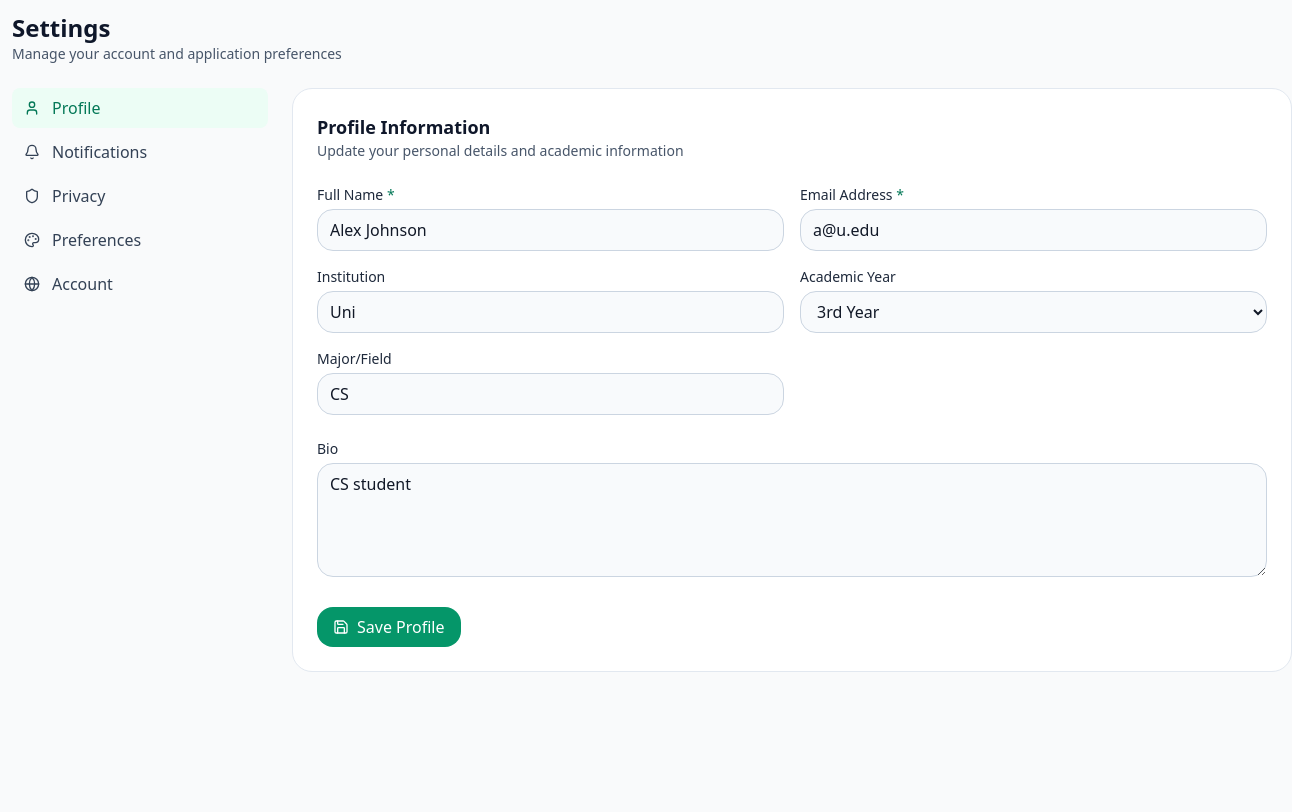
it: Settings (navigation between tabs) › switches tabs via left nav
Expected: the text "Manage your account and application preferences" is shown, [12, 44, 342, 63]
Click the button "Notifications": [140, 152] box [12, 132, 268, 172]
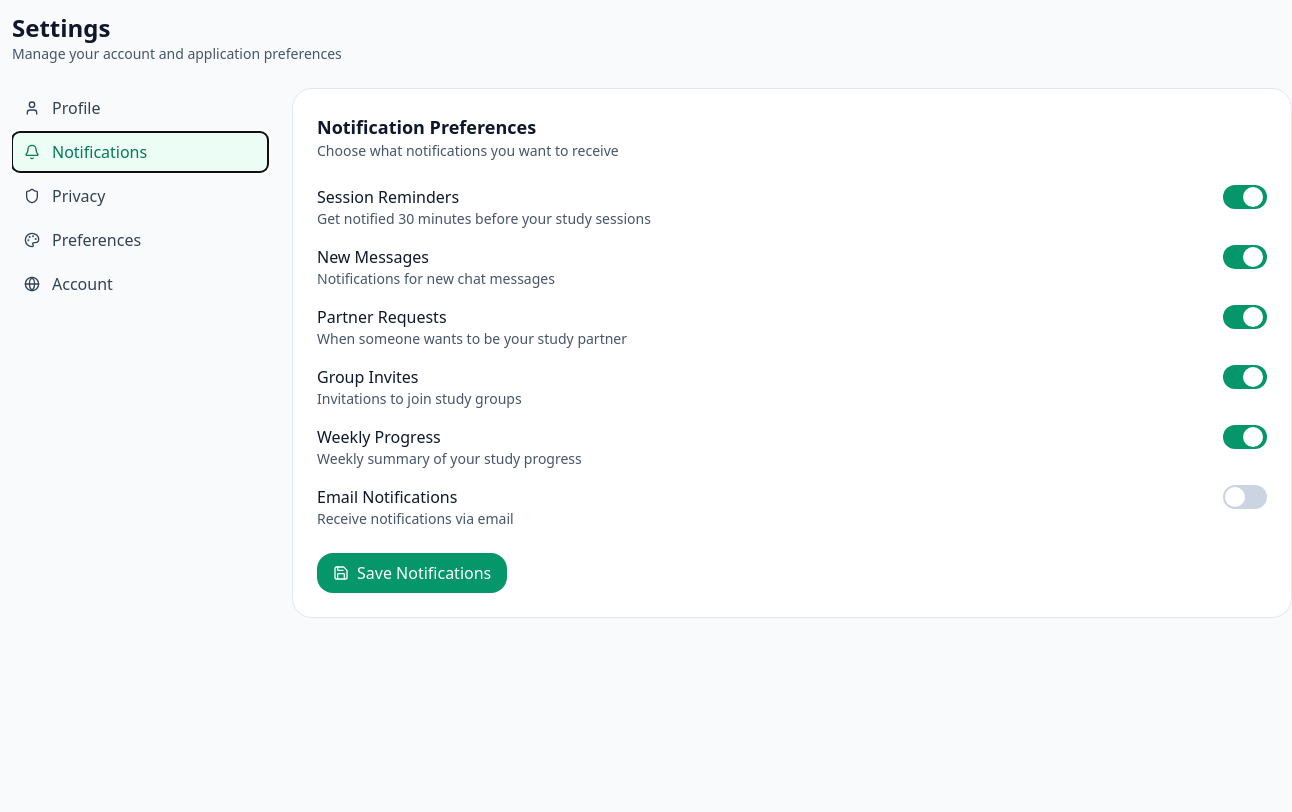
Expected: the heading "Notification Preferences" is shown, [317, 115, 536, 139]
Click the button "Privacy": [140, 196] box [12, 176, 268, 216]
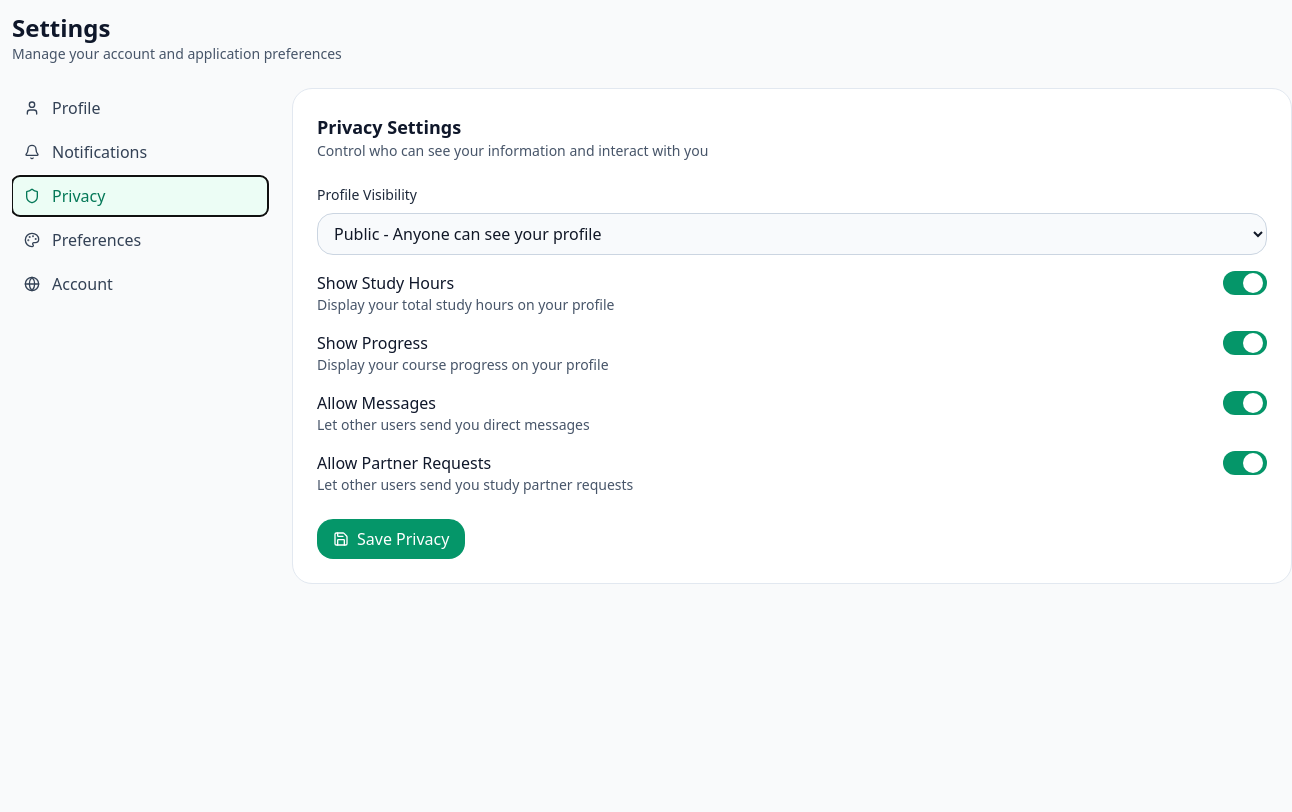
Expected: the heading "Privacy Settings" is shown, [317, 115, 461, 139]
Click the button "Preferences": [140, 240] box [12, 220, 268, 260]
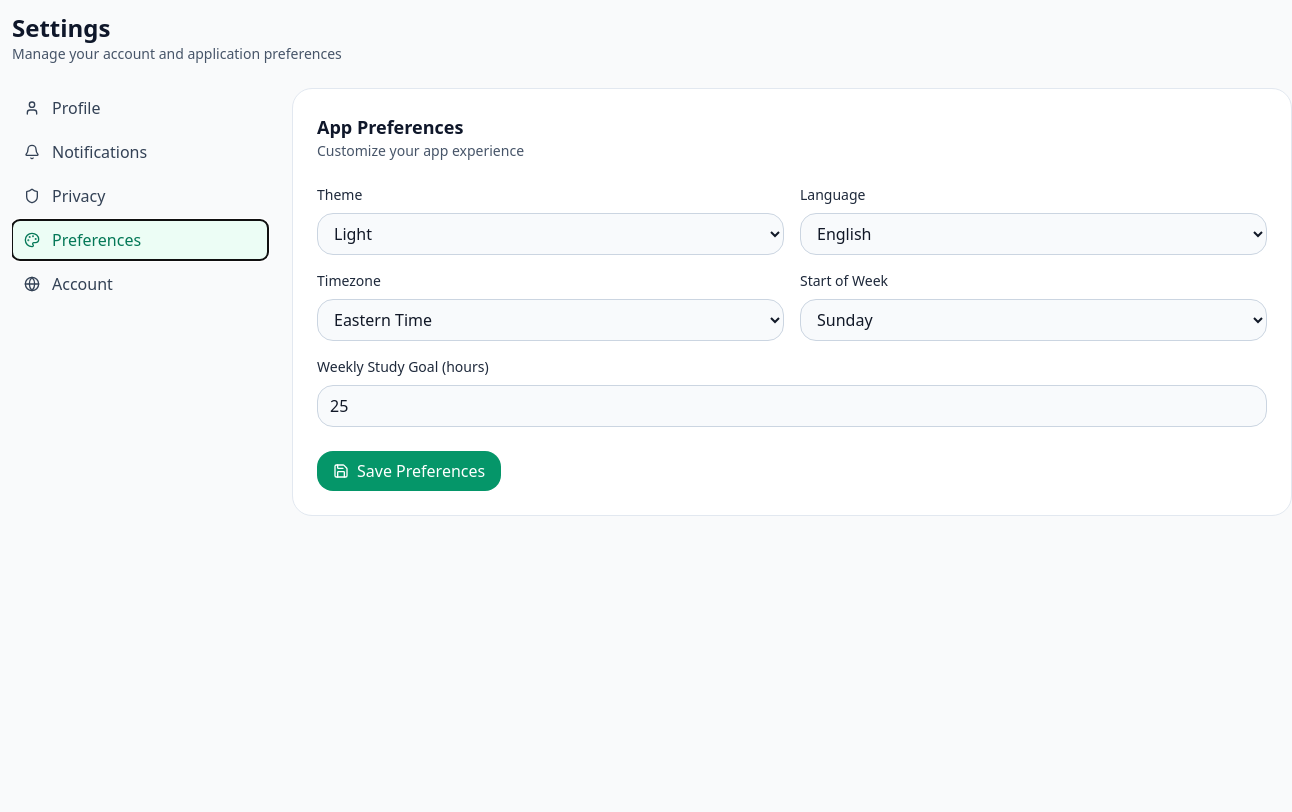
Expected: the heading "App Preferences" is shown, [317, 115, 463, 139]
Click the button "Account": [140, 284] box [12, 264, 268, 304]
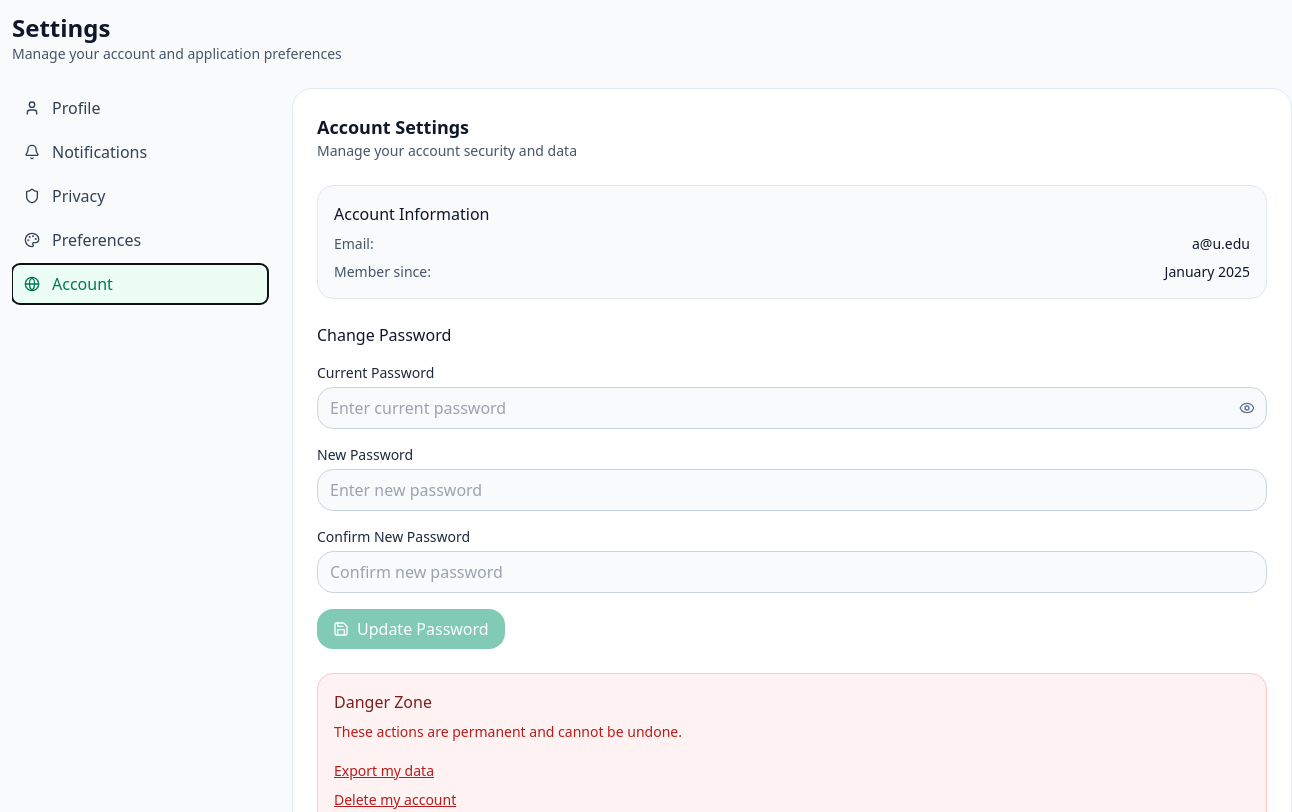
Expected: the heading "Account Settings" is shown, [317, 115, 469, 139]
Click the button "Profile": [140, 108] box [12, 88, 268, 128]
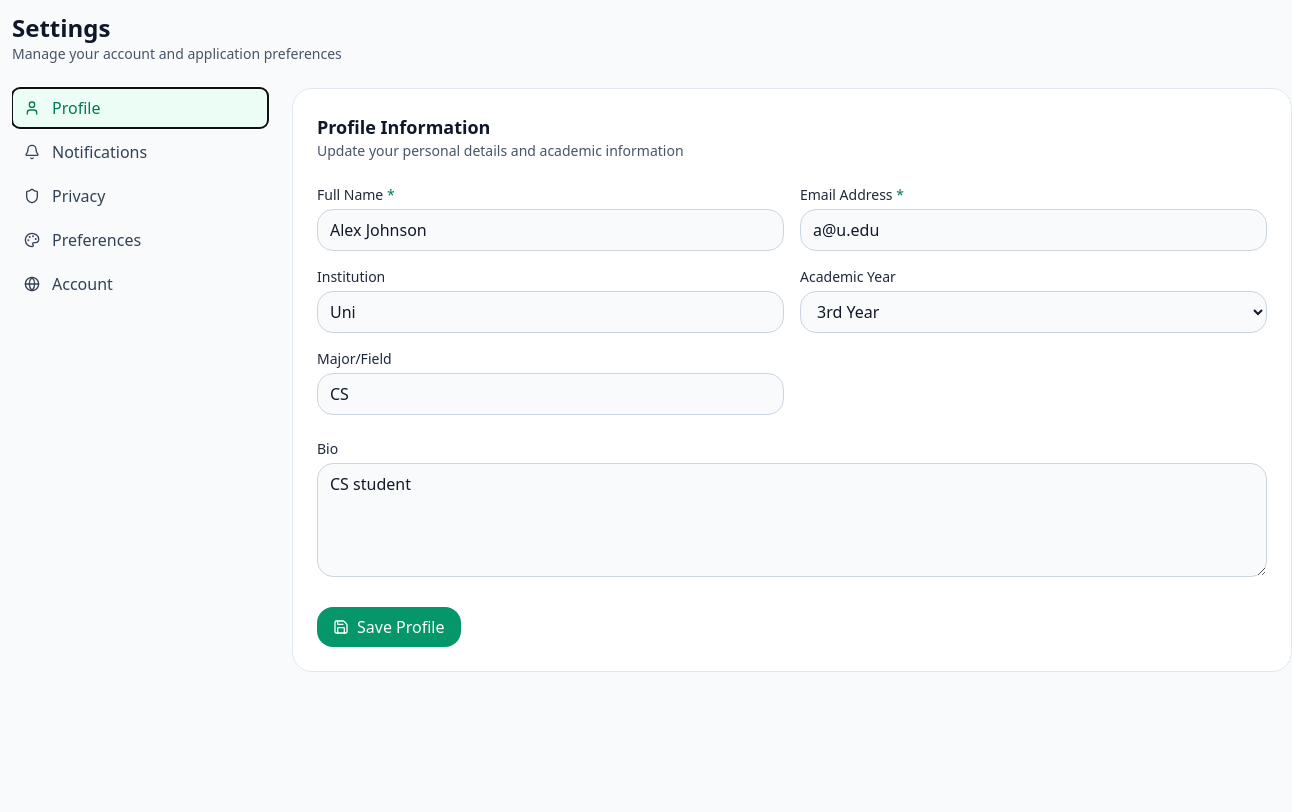
Expected: the heading "Profile Information" is shown, [317, 115, 490, 139]
